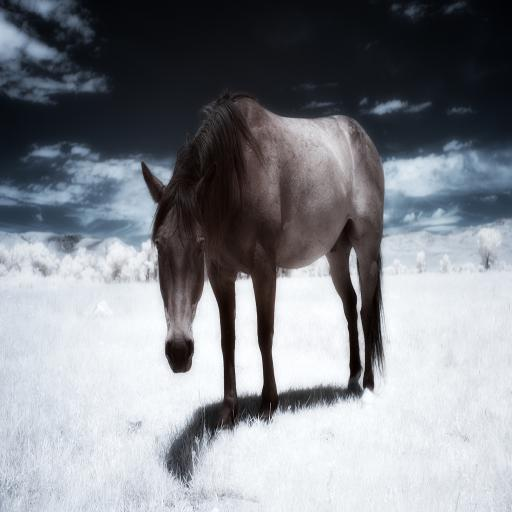horse: (142, 89, 385, 429)
